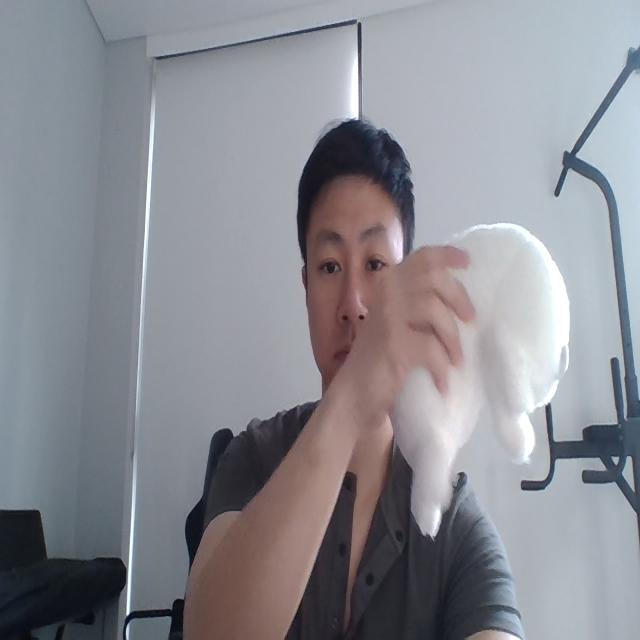seal_bb: (393, 224, 570, 542)
